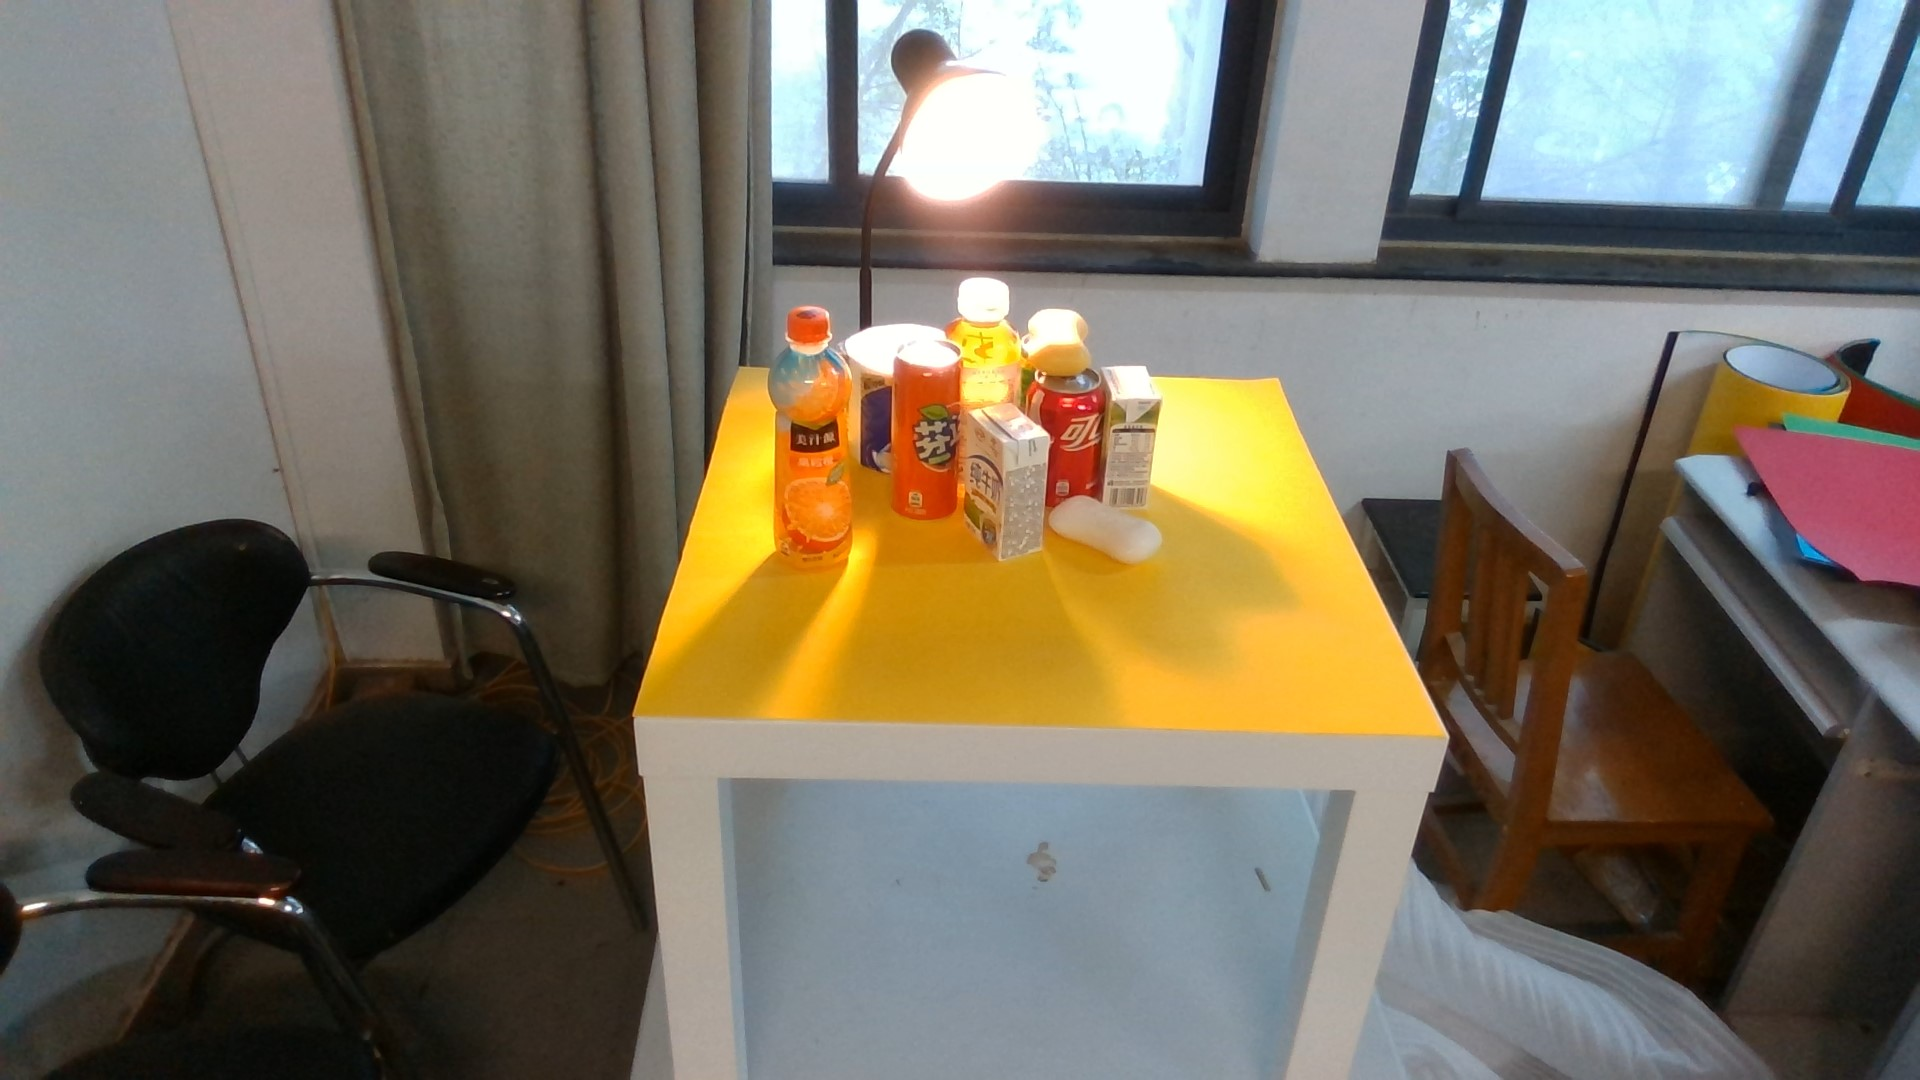BB003: (1048, 505, 1163, 567), (1027, 309, 1095, 375)
BB009: (1104, 363, 1159, 505)
BB013: (963, 406, 1044, 563)
CA002: (851, 323, 894, 475)
ZC002: (1051, 375, 1105, 495)
ZC003: (895, 342, 959, 524)
ZC006: (766, 307, 851, 567)
ZC012: (961, 274, 1022, 405)
